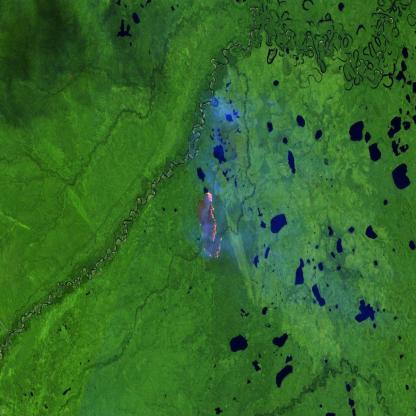fire: (191, 188, 226, 263)
